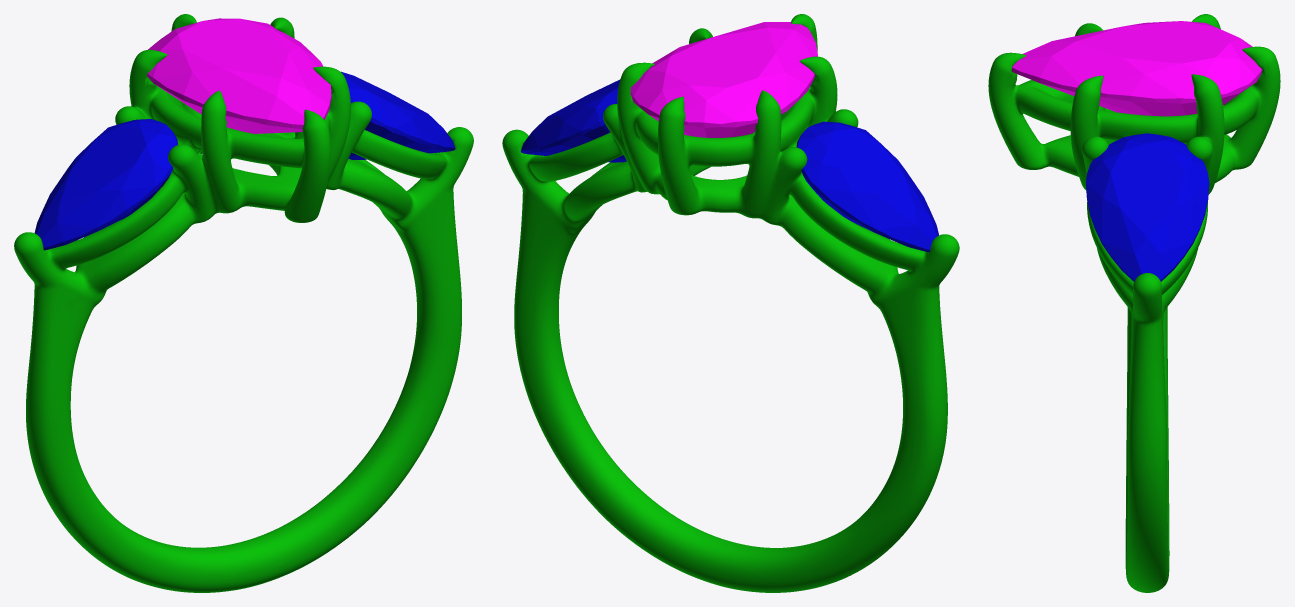
Rendered from BE1D1498_PE_200ct_RENDER.glb.
3 views of the same model, side by side, from view 1: azimuth 30°, elevation 25°; view 2: azimuth 150°, elevation 25°; view 3: azimuth 270°, elevation 25° (orthographic).
Parts seen in each view (by area): view 1: Metal 01, CS_Diamond_Pear, Diamond_Pear_side.001, Diamond_Pear_side; view 2: Metal 01, CS_Diamond_Pear, Diamond_Pear_side.001, Diamond_Pear_side; view 3: Metal 01, CS_Diamond_Pear, Diamond_Pear_side.
Part boxes in pixels (x1,y1,x2,y2): Metal 01: (14,14,473,592); CS_Diamond_Pear: (147,18,331,133); Diamond_Pear_side.001: (34,119,177,250); Diamond_Pear_side: (341,71,455,159); Metal 01: (502,14,959,592); CS_Diamond_Pear: (630,22,817,137); Diamond_Pear_side.001: (796,121,938,252); Diamond_Pear_side: (520,79,626,162); Metal 01: (988,14,1280,592); CS_Diamond_Pear: (1011,21,1262,116); Diamond_Pear_side: (1086,133,1209,281).
Bounding box in the file's own units: 21.3 × 23.82 × 11.93.
